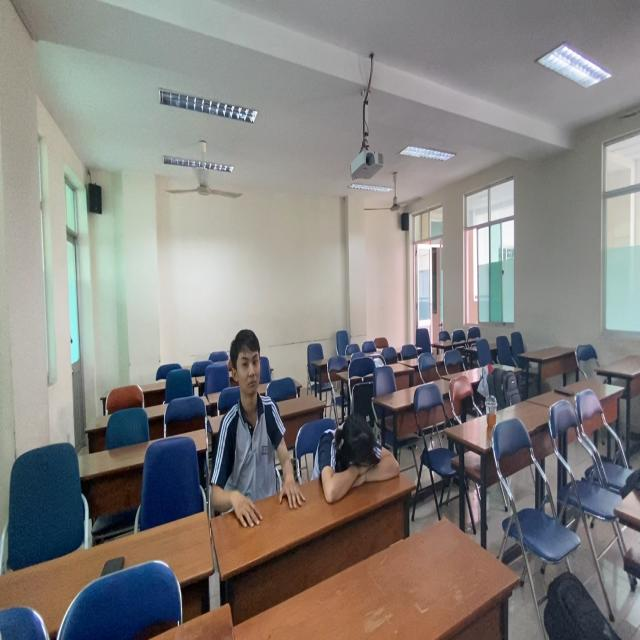sleep: (313, 415, 404, 505)
